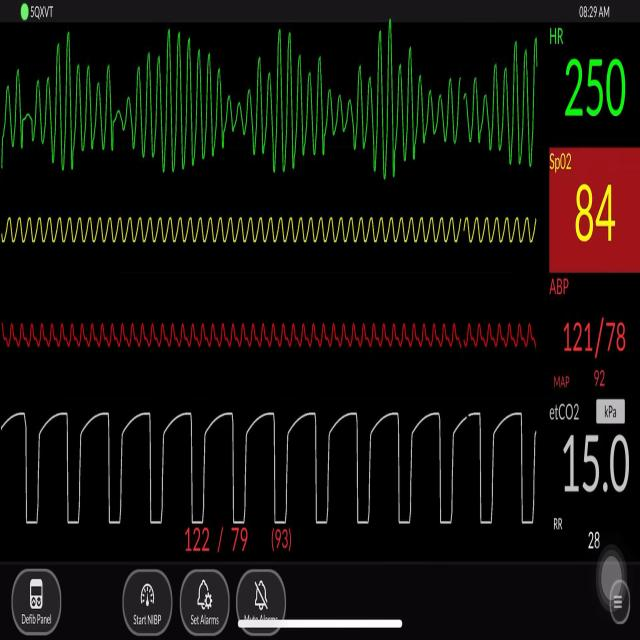danger: (19, 25, 544, 198)
